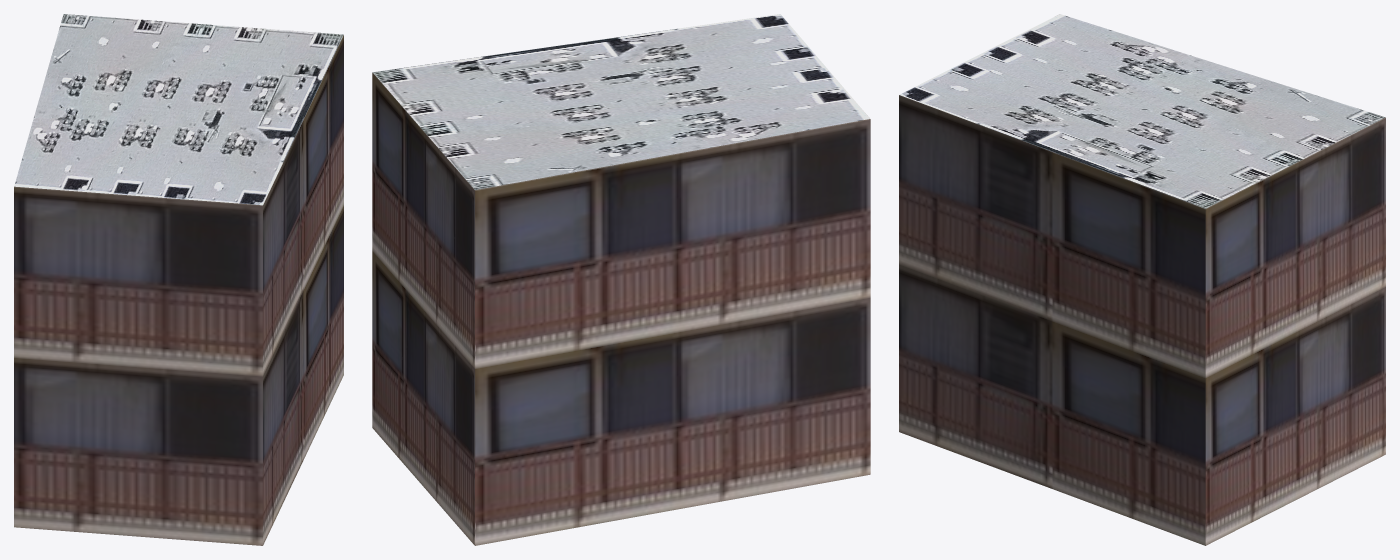
Rendered from ResTex__2870.fbx.
The picture shows the model from 3 angles, left to right: view 1: azimuth 30°, elevation 25°; view 2: azimuth 150°, elevation 25°; view 3: azimuth 270°, elevation 25°; orthographic projection. The views are drawn at different scales.
Visible parts, largest first — view 1: CityEngineMaterial_6_m, CityEngineMaterial_8_m; view 2: CityEngineMaterial_6_m, CityEngineMaterial_8_m; view 3: CityEngineMaterial_6_m, CityEngineMaterial_8_m.
Boxes of the visible parts, bbox=[...] form: CityEngineMaterial_6_m: bbox=[14, 35, 343, 545]; CityEngineMaterial_8_m: bbox=[14, 14, 343, 205]; CityEngineMaterial_6_m: bbox=[372, 72, 870, 545]; CityEngineMaterial_8_m: bbox=[373, 14, 869, 189]; CityEngineMaterial_6_m: bbox=[899, 95, 1385, 545]; CityEngineMaterial_8_m: bbox=[899, 14, 1385, 208].
Bounding box in the file's own units: 7.43 × 6 × 7.85.
2 materials, 2 textured.
